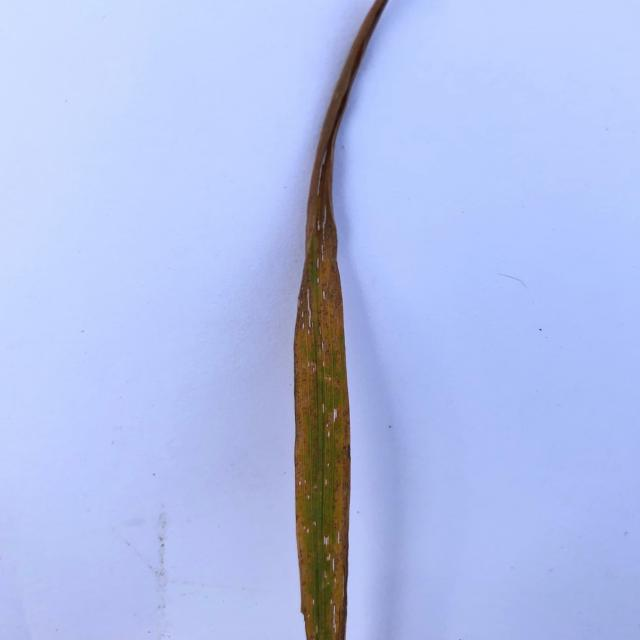tungro: (292, 224, 352, 640)
